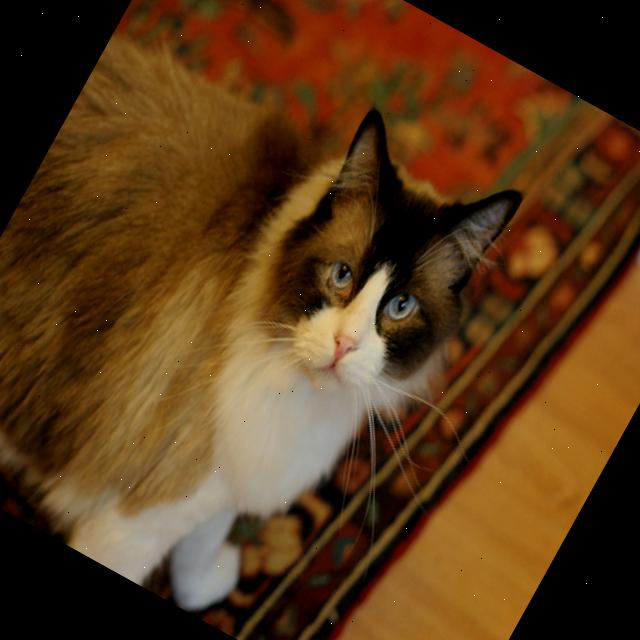cat-eye: (318, 247, 364, 297)
cat-eye-normal: (379, 284, 426, 334)
